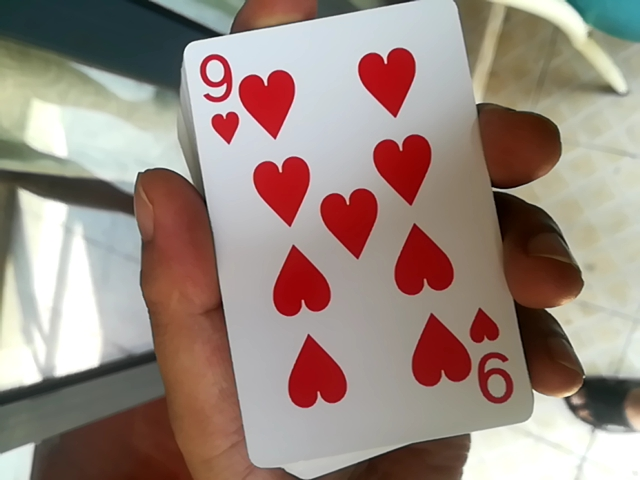hx 9: (190, 5, 555, 468)
